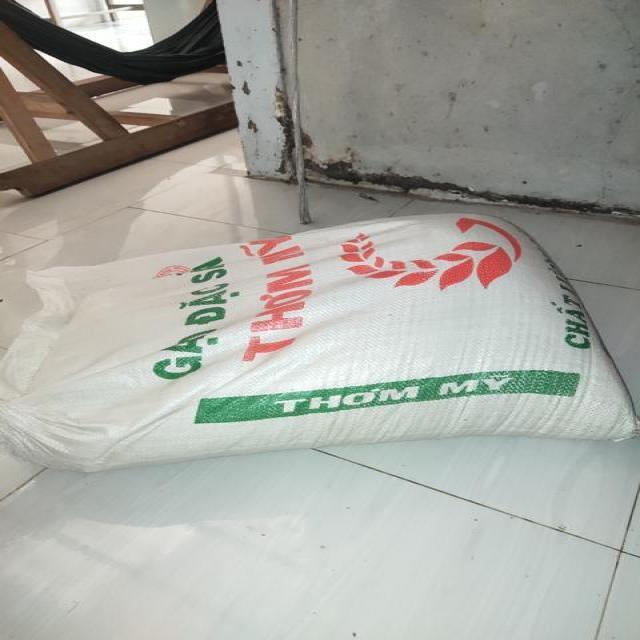gunny_bag: (1, 214, 637, 472)
